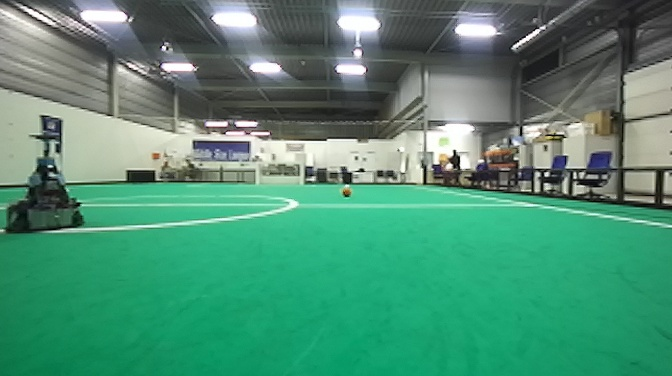ball: (337, 180, 356, 200)
goal: (252, 160, 305, 186)
goalpost: (253, 160, 262, 186), (298, 159, 305, 188)
robot: (4, 128, 91, 238)
